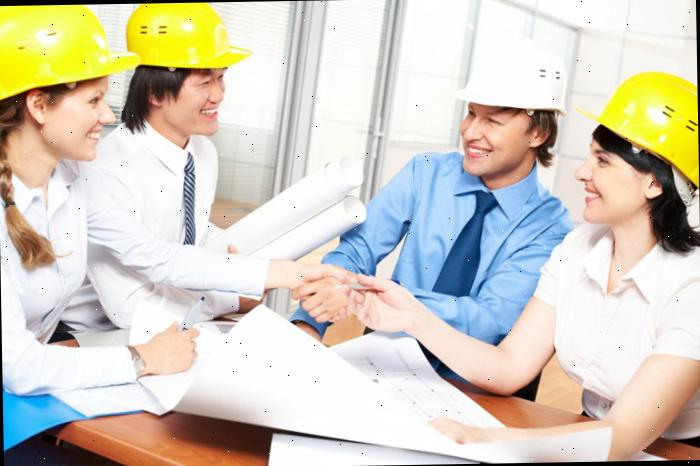helmet: (574, 72, 699, 196), (0, 5, 137, 103), (446, 35, 576, 119), (124, 3, 253, 76)
no_wear: (334, 159, 568, 340), (542, 228, 697, 434), (96, 139, 216, 313), (0, 178, 85, 394)
